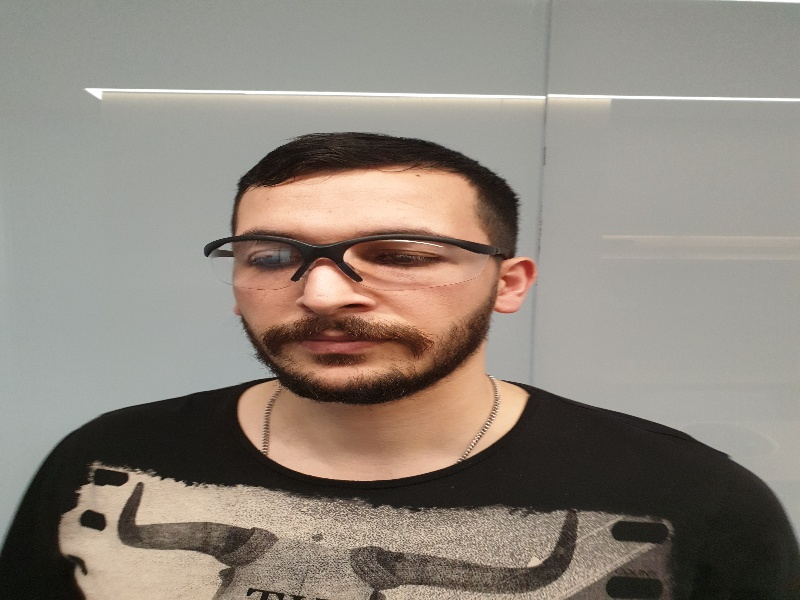Gozluk: (205, 233, 514, 290)
